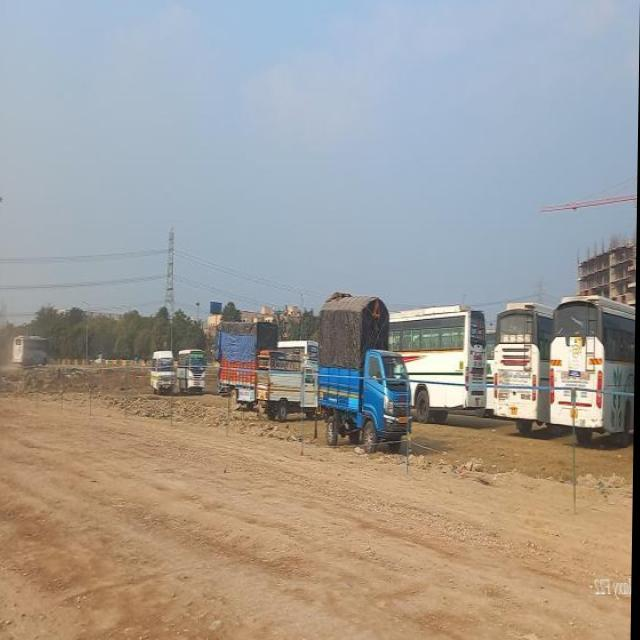covered: (316, 293, 414, 467), (208, 316, 280, 396)
